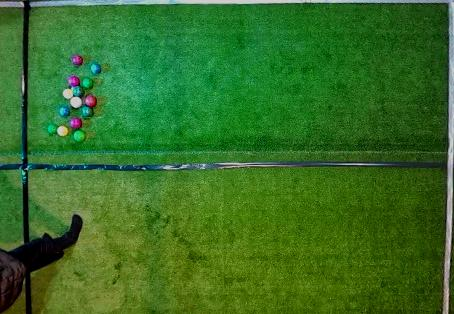blue: (59, 106, 70, 117), (91, 63, 101, 74)
green: (80, 106, 93, 118), (74, 130, 86, 142), (71, 86, 84, 97), (83, 77, 94, 89), (47, 124, 58, 134)
red: (70, 117, 82, 129), (67, 75, 80, 86), (84, 96, 97, 107), (70, 97, 83, 108), (71, 55, 83, 66)
vline: (1, 1, 30, 240), (440, 1, 453, 313), (1, 271, 33, 313)
white: (71, 86, 74, 90)
yellow: (57, 126, 68, 137), (62, 89, 73, 99)
